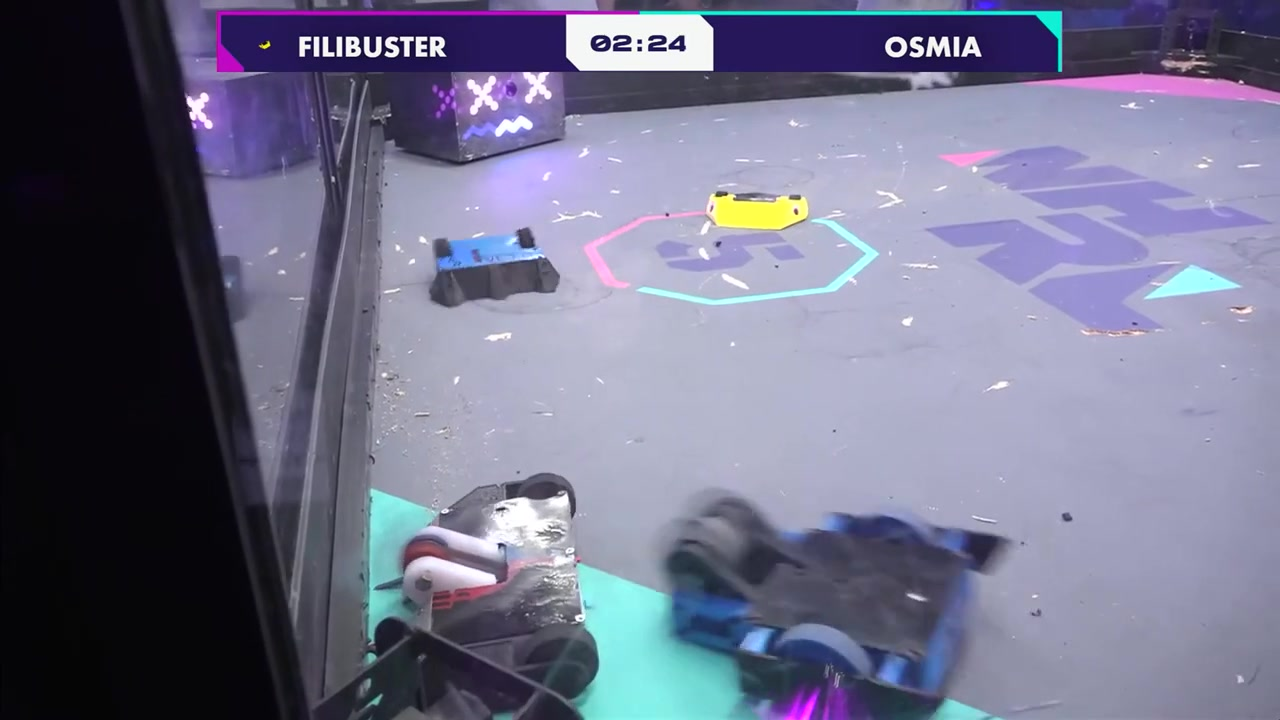combatbot: (655, 491, 1011, 720), (400, 471, 600, 699)
housebot: (393, 73, 567, 162)
minibot: (427, 226, 562, 311), (704, 190, 811, 229)
